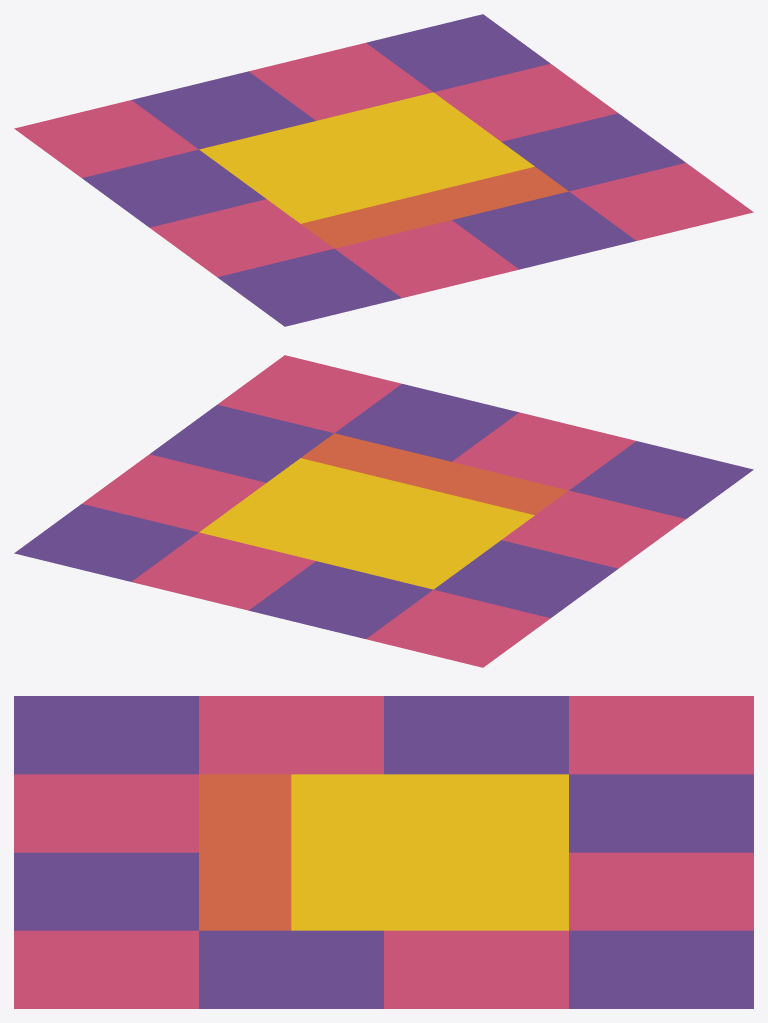
3 renders of one model, top to bottom at view 1: azimuth 30°, elevation 25°; view 2: azimuth 150°, elevation 25°; view 3: azimuth 270°, elevation 25°, orthographic. The views are drawn at different scales.
Visible parts, largest first — view 1: Plane.003, Plane.002, Plane.008, Plane.012, Plane.001, Plane.010, Plane.006, Plane.007, Plane.014, Plane.015, Plane.005, Plane.011 (+2 smaller); view 2: Plane.003, Plane.002, Plane.007, Plane.014, Plane.005, Plane.011, Plane.008, Plane.009, Plane.012, Plane.013, Plane.001, Plane.010 (+2 smaller); view 3: Plane.003, Plane.001, Plane.005, Plane.006, Plane.007, Plane.008, Plane.009, Plane.010, Plane.011, Plane.012, Plane.013, Plane.014 (+2 smaller).
Boxes of the visible parts, x1,y1,x2,y2 form: Plane.003: (199,92,534,223); Plane.002: (301,166,568,248); Plane.008: (452,191,635,269); Plane.012: (132,71,315,149); Plane.001: (82,149,266,227); Plane.010: (501,113,685,191); Plane.006: (217,248,401,326); Plane.007: (335,220,518,297); Plane.014: (249,43,432,120); Plane.015: (366,14,550,92); Plane.005: (150,199,333,277); Plane.011: (434,63,617,141); Plane.003: (199,458,534,589); Plane.002: (301,433,568,515); Plane.007: (452,412,635,490); Plane.014: (132,532,315,610); Plane.005: (501,490,685,568); Plane.011: (82,454,266,532); Plane.008: (335,384,518,461); Plane.009: (217,355,401,433); Plane.012: (249,561,432,638); Plane.013: (366,589,550,667); Plane.001: (434,540,617,618); Plane.010: (150,404,333,482); Plane.003: (291,774,568,930); Plane.001: (384,696,568,774); Plane.005: (199,696,383,774); Plane.006: (14,696,198,774); Plane.007: (14,774,198,852); Plane.008: (14,852,198,930); Plane.009: (14,930,198,1008); Plane.010: (199,930,383,1008); Plane.011: (384,930,568,1008); Plane.012: (569,774,753,852); Plane.013: (569,696,753,774); Plane.014: (569,852,753,930).
Bounding box in the file's own units: 64 × 0 × 64.
1 material, 1 textured.
